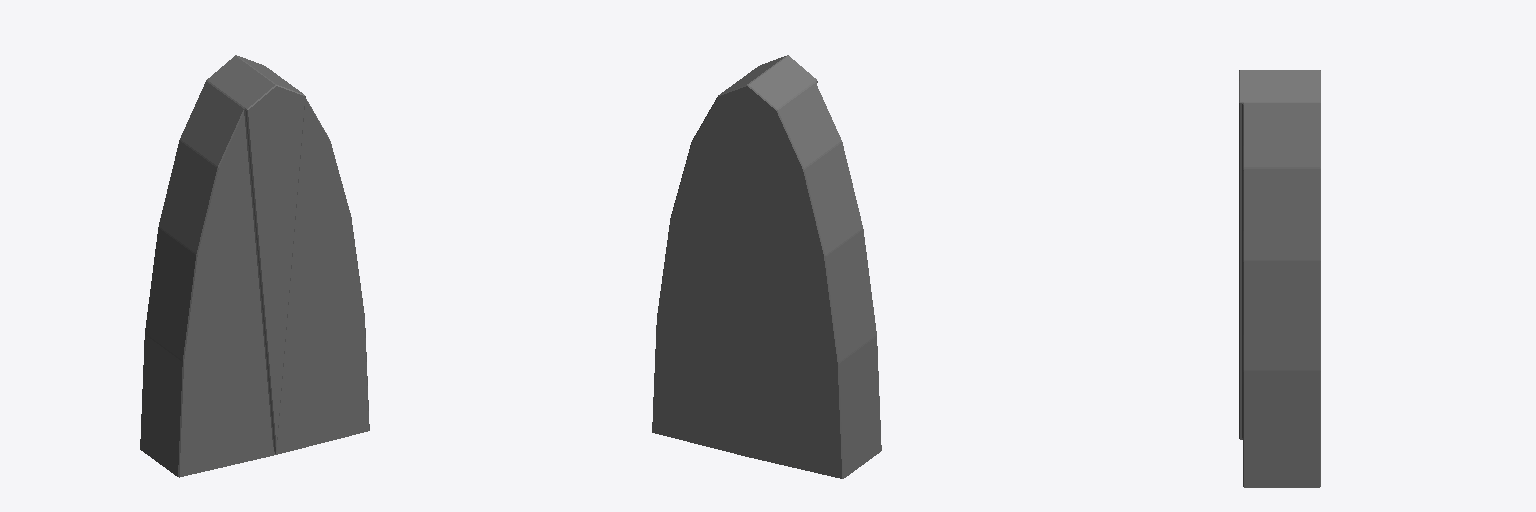
3 renders of one model, left to right at view 1: azimuth 30°, elevation 25°; view 2: azimuth 150°, elevation 25°; view 3: azimuth 270°, elevation 25°, orthographic.
Parts seen in each view (by area): view 1: stage2:pCylinder1928 stage2:polySurface2996 polySurface26 stage2; view 2: stage2:pCylinder1928 stage2:polySurface2996 polySurface26 stage2; view 3: stage2:pCylinder1928 stage2:polySurface2996 polySurface26 stage2.
Boxes of the visible parts, x1,y1,x2,y2 form: stage2:pCylinder1928 stage2:polySurface2996 polySurface26 stage2: [140, 55, 369, 477]; stage2:pCylinder1928 stage2:polySurface2996 polySurface26 stage2: [652, 55, 881, 478]; stage2:pCylinder1928 stage2:polySurface2996 polySurface26 stage2: [1239, 70, 1320, 487].
Bounding box in the file's own units: 7.2 × 13.35 × 2.68.